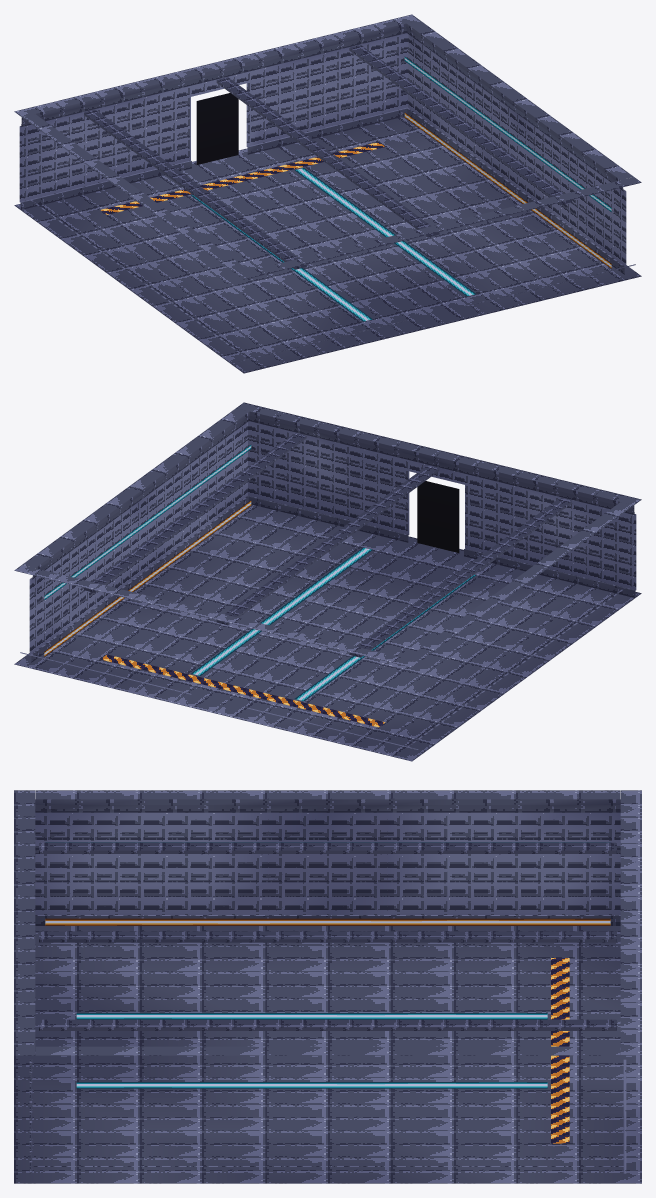
File: cyroom.server__arena.glb
3 renders of one model, top to bottom at view 1: azimuth 30°, elevation 25°; view 2: azimuth 150°, elevation 25°; view 3: azimuth 270°, elevation 25°, orthographic. The views are drawn at different scales.
Visible parts, largest first — view 1: kit_shell_floor, kit_shell_walls, kit_shell_rig, kit_card_lights; view 2: kit_shell_floor, kit_shell_walls, kit_shell_rig, kit_card_lights; view 3: kit_shell_floor, kit_shell_walls, kit_shell_rig, kit_card_lights.
Boxes of the visible parts, x1,y1,x2,y2 form: kit_shell_floor: (14,116,641,373); kit_shell_walls: (14,14,641,361); kit_shell_rig: (84,45,571,269); kit_card_lights: (191,56,611,321); kit_shell_floor: (14,504,641,761); kit_shell_walls: (14,402,641,749); kit_shell_rig: (84,433,571,657); kit_card_lights: (44,444,476,701); kit_shell_floor: (14,926,641,1183); kit_shell_walls: (14,790,641,1173); kit_shell_rig: (39,842,616,1030); kit_card_lights: (45,842,610,1088).
Size of the model in its own units: 20 by 4.5 by 20.
7 materials, 7 textured.
